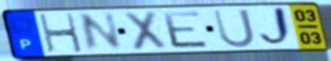E: (160, 10, 212, 50)
H: (37, 12, 85, 55)
J: (257, 5, 296, 50)
N: (77, 11, 125, 54)
U: (210, 8, 257, 49)
X: (121, 10, 170, 52)
